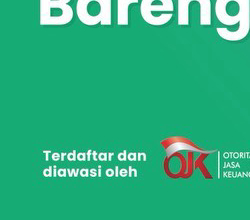ojk: (157, 132, 250, 184)
